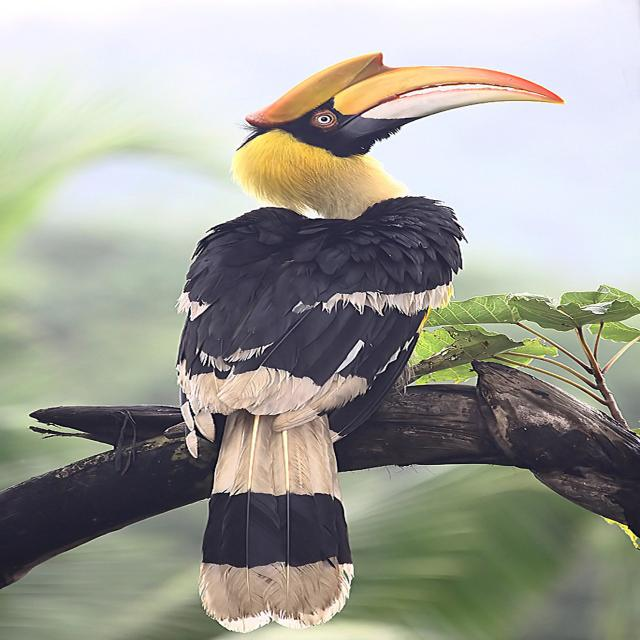Hornbill: (182, 50, 568, 623)
